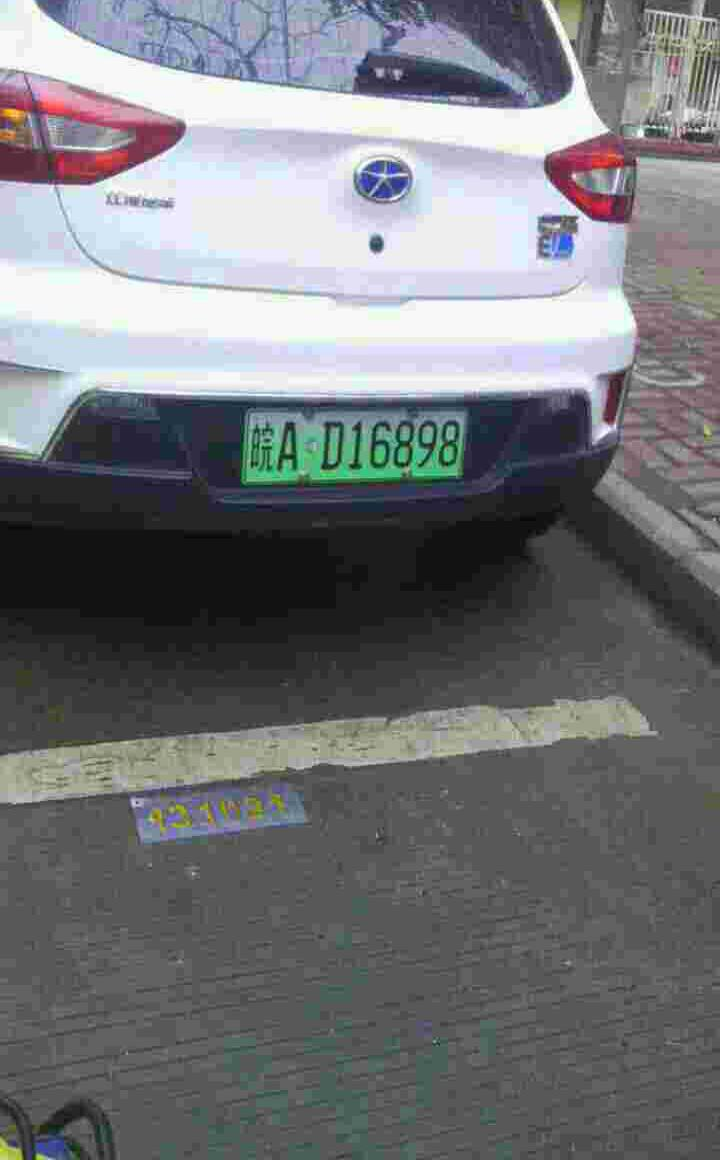car: (239, 404, 468, 480)
